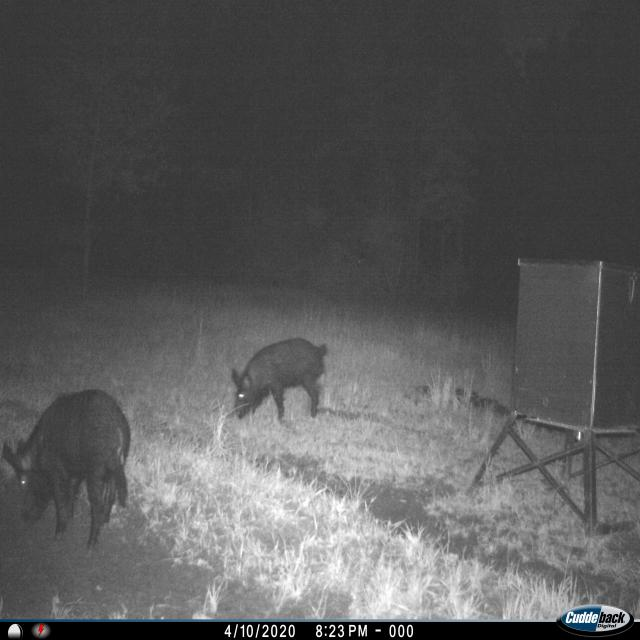wild boar: (4, 384, 138, 554), (229, 333, 330, 427)
